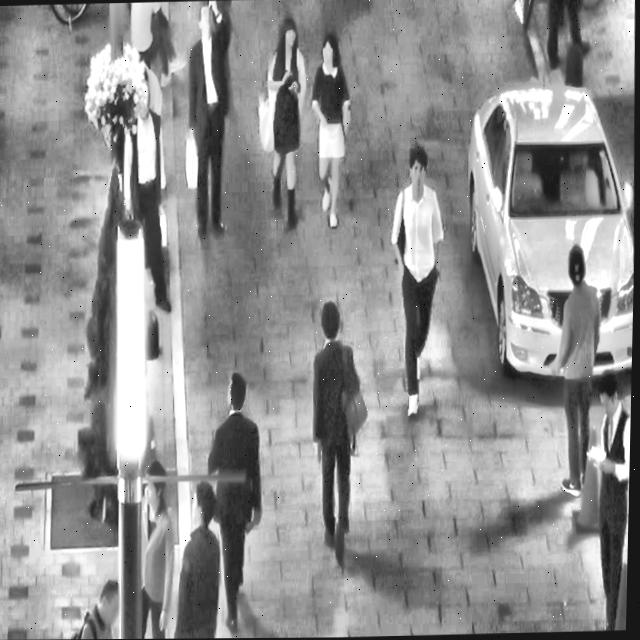light_vehicle: (456, 64, 639, 391)
